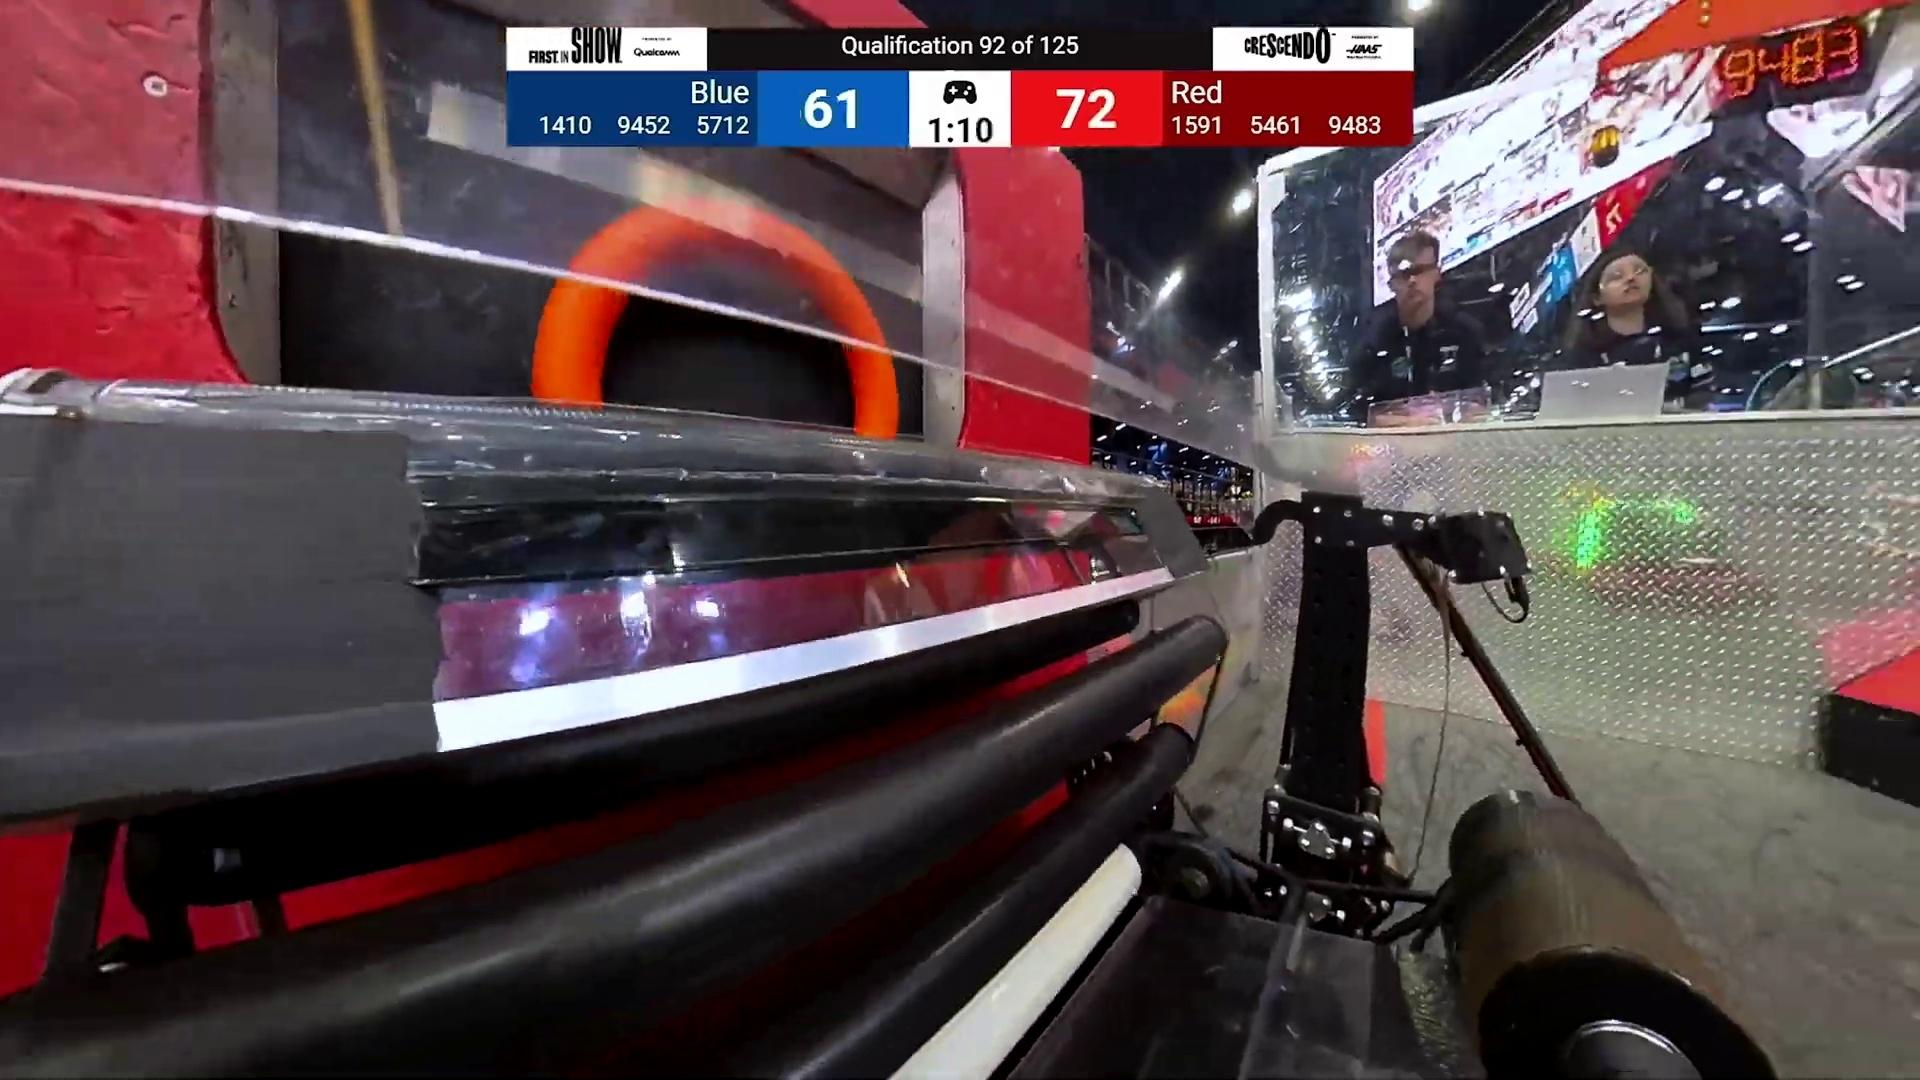robot: (1185, 504, 1234, 526)
